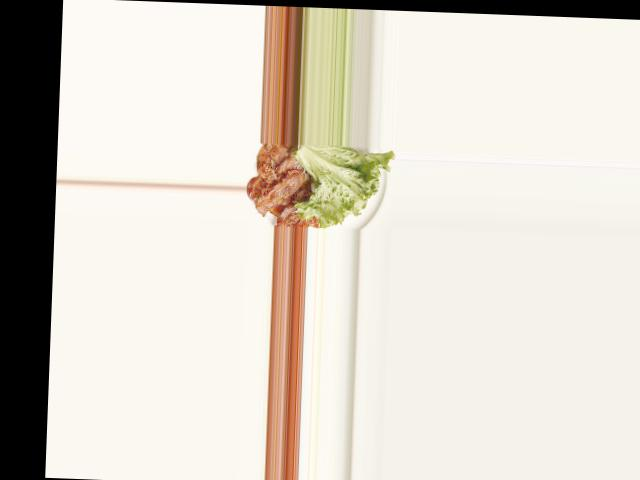lettuce: (294, 143, 390, 228)
